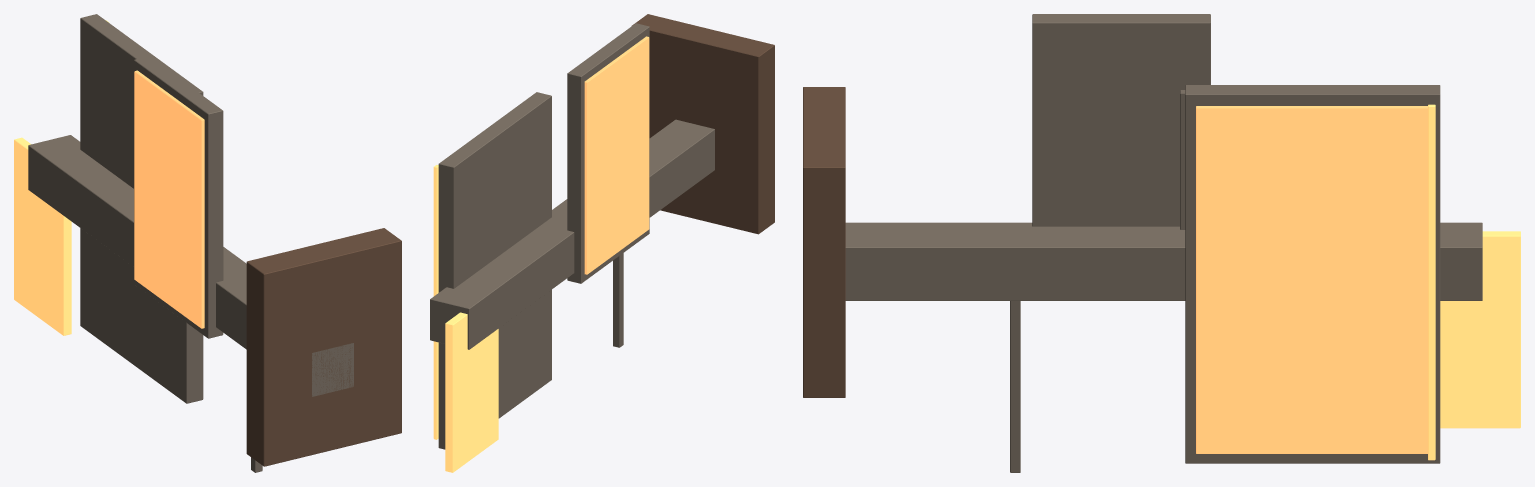
File: mass_billboard_stack_canyon_l.glb
The picture shows the model from 3 angles, left to right: view 1: azimuth 30°, elevation 25°; view 2: azimuth 150°, elevation 25°; view 3: azimuth 270°, elevation 25°; orthographic projection. The views are drawn at different scales.
Visible parts, largest first — view 1: FlightKit_MassBillboard_canyon_L; view 2: FlightKit_MassBillboard_canyon_L; view 3: FlightKit_MassBillboard_canyon_L.
Boxes of the visible parts, <box> form: FlightKit_MassBillboard_canyon_L: <box>14,14,401,472</box>; FlightKit_MassBillboard_canyon_L: <box>430,14,774,472</box>; FlightKit_MassBillboard_canyon_L: <box>803,14,1520,472</box>.
Bounding box in the file's own units: 4.5 × 11.25 × 16.9.
